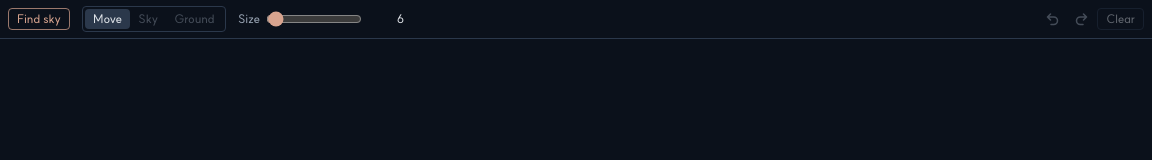
Scenario: failures › says so when the sky could not be found
Click the button "Find sky" at x=39, y=19, box [8,8,70,30]
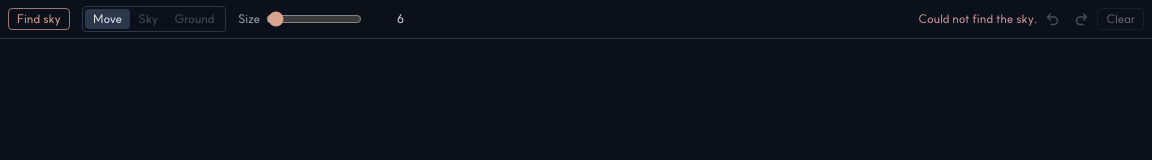
Result: the text "Could not find the sky." is shown at [918,11,1037,27]
